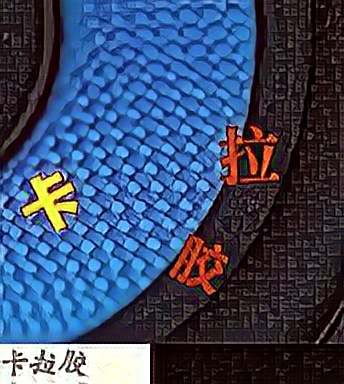BDBA: (169, 231, 234, 296)
BFA8: (18, 170, 83, 235)
C0AD: (219, 121, 284, 186)
